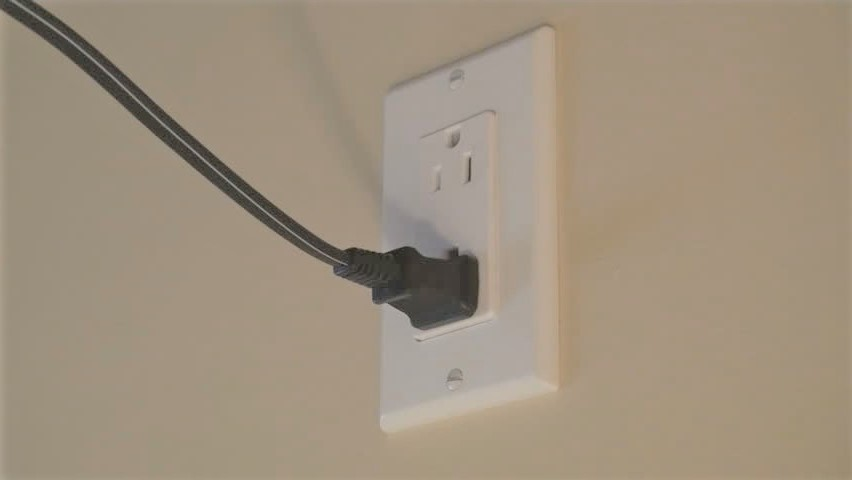outlet: (426, 121, 479, 200)
